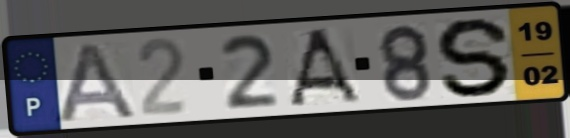2: (217, 32, 283, 113), (134, 35, 191, 120)
8: (374, 19, 434, 103)
A: (50, 39, 140, 125), (285, 26, 365, 108)
S: (433, 15, 516, 99)
